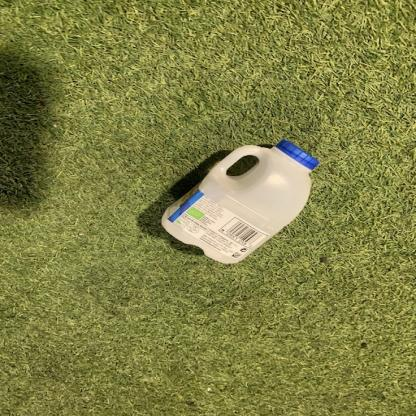trash: (161, 140, 320, 266)
